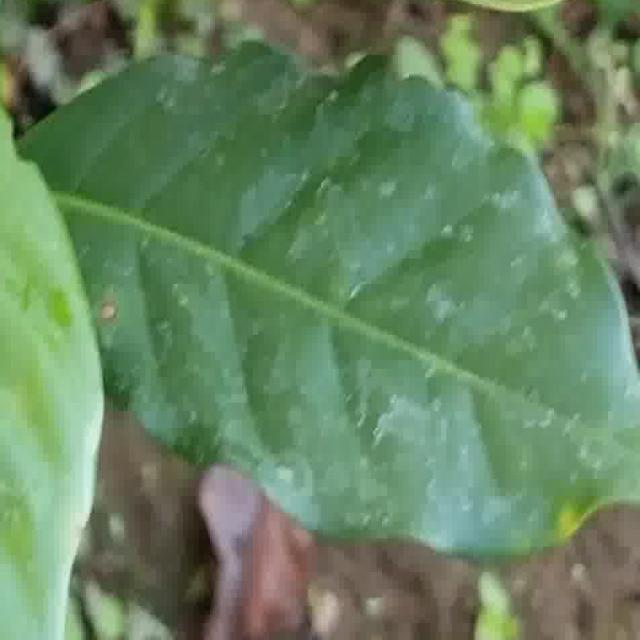leaves: (7, 0, 640, 640)
